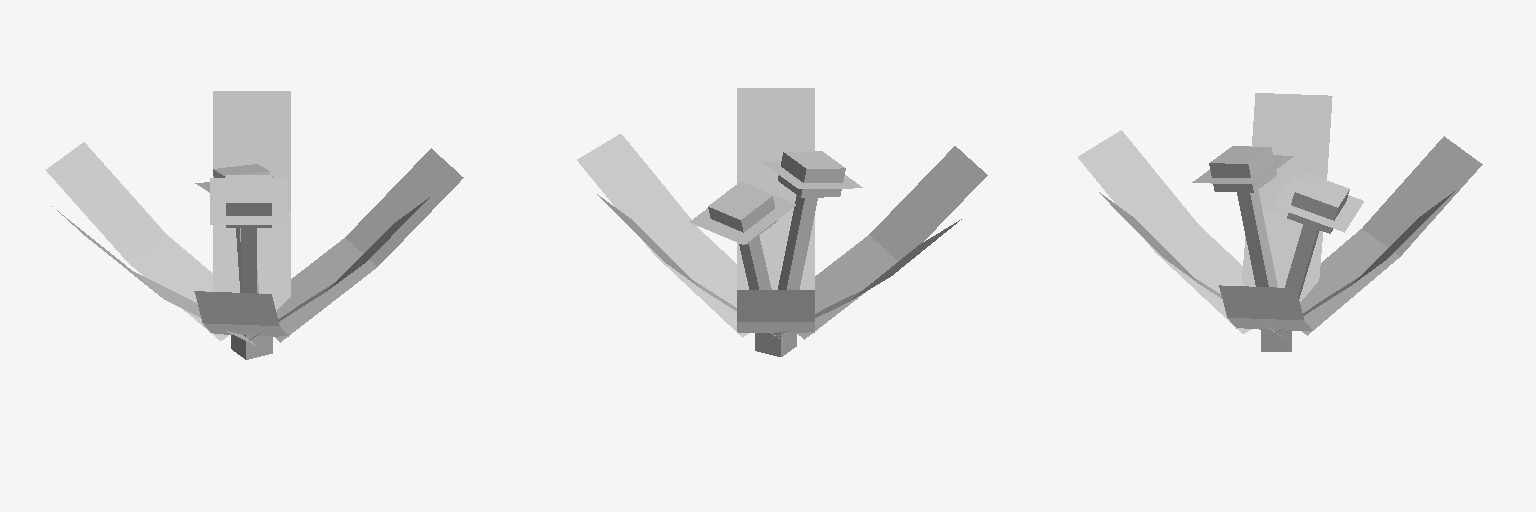
File: rubber_dandelion_1.obj
The picture shows the model from 3 angles: view 1: azimuth 30°, elevation 25°; view 2: azimuth 150°, elevation 25°; view 3: azimuth 270°, elevation 25°; orthographic projection.
Visible parts, largest first — view 1: leafSeg1NE, leafSeg1NW, leafSeg1E, leafSeg2NE, leafSeg2E, leafSeg2NW, leafSeg1SW, flower2, petals2, stem2, stemBase, leafSeg2SW (+2 smaller); view 2: leafSeg1SE, leafSeg1E, leafSeg1SW, leafSeg2E, leafSeg2SW, leafSeg1NW, leafSeg2SE, flower2, flower1, stem2, petals1, stem1 (+5 smaller); view 3: leafSeg1W, leafSeg1SW, leafSeg1NW, leafSeg2NW, leafSeg2SW, leafSeg2W, leafSeg1E, flower2, stem2, flower1, petals1, stem1 (+5 smaller).
Boxes of the visible parts, box(x1,y1,x2,y2) form: leafSeg1NE: box(213, 91, 290, 210); leafSeg1NW: box(46, 142, 165, 261); leafSeg1E: box(345, 148, 463, 266); leafSeg2NE: box(213, 211, 290, 311); leafSeg2E: box(275, 238, 376, 342); leafSeg2NW: box(128, 234, 228, 340); leafSeg1SW: box(194, 291, 279, 325); flower2: box(226, 175, 271, 227); petals2: box(210, 178, 287, 224); stem2: box(241, 228, 256, 292); stemBase: box(231, 335, 272, 359); leafSeg2SW: box(203, 323, 288, 336); leafSeg1SE: box(737, 88, 814, 203); leafSeg1E: box(577, 134, 698, 254); leafSeg1SW: box(869, 146, 987, 261); leafSeg2E: box(655, 229, 748, 337); leafSeg2SW: box(797, 235, 897, 339); leafSeg1NW: box(737, 290, 814, 321); leafSeg2SE: box(737, 208, 814, 289); flower2: box(778, 151, 845, 197); flower1: box(708, 182, 777, 244); stem2: box(778, 195, 817, 289); petals1: box(690, 182, 795, 244); stem1: box(739, 236, 771, 289); leafSeg1W: box(1252, 93, 1332, 210); leafSeg1SW: box(1078, 130, 1198, 251); leafSeg1NW: box(1362, 136, 1482, 256); leafSeg2NW: box(1300, 229, 1399, 335); leafSeg2SW: box(1155, 225, 1251, 333); leafSeg2W: box(1242, 210, 1322, 302); leafSeg1E: box(1219, 285, 1303, 319); flower2: box(1209, 146, 1276, 192); stem2: box(1237, 190, 1277, 287); flower1: box(1287, 173, 1349, 233); petals1: box(1273, 175, 1363, 232); stem1: box(1285, 224, 1319, 298).
Size of the model in its own units: 1.71 by 0.8218 by 1.63.